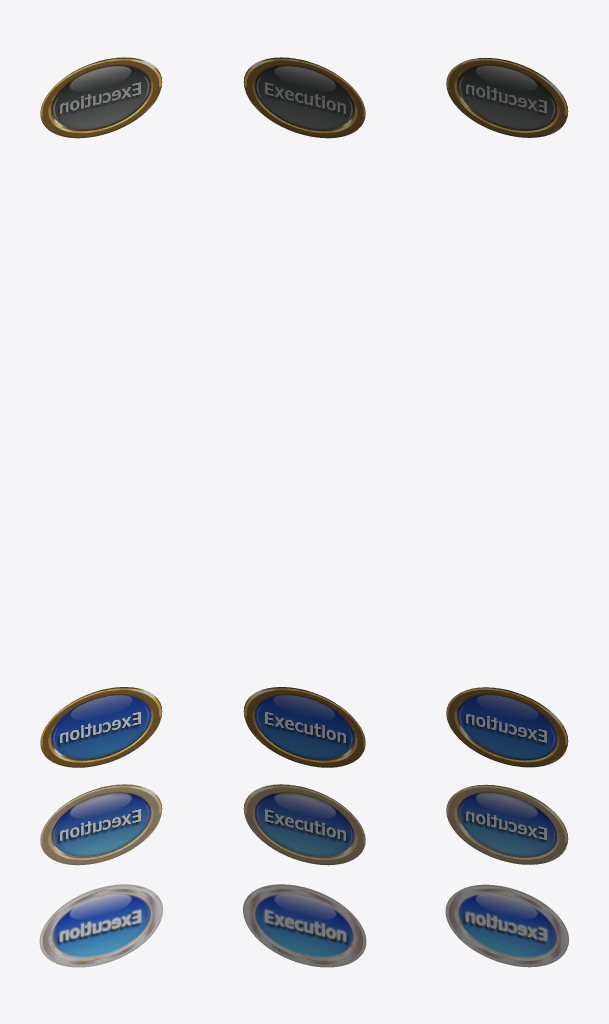
File: Execution_set.fbx
3 views of the same model, side by side, from view 1: azimuth 30°, elevation 25°; view 2: azimuth 150°, elevation 25°; view 3: azimuth 330°, elevation 25° (orthographic).
Visible parts, largest first — view 1: Execution_mouseclick, Execution_off, Execution_mouseover, Execution_on; view 2: Execution_mouseclick, Execution_off, Execution_mouseover, Execution_on; view 3: Execution_mouseclick, Execution_on, Execution_mouseover, Execution_off.
Part boxes in pixels (bbox=[...]): Execution_mouseclick: bbox=[39, 884, 162, 967]; Execution_off: bbox=[40, 57, 162, 138]; Execution_mouseover: bbox=[40, 784, 162, 865]; Execution_on: bbox=[40, 687, 162, 767]; Execution_mouseclick: bbox=[243, 884, 366, 967]; Execution_off: bbox=[243, 57, 365, 138]; Execution_mouseover: bbox=[243, 784, 365, 865]; Execution_on: bbox=[243, 687, 365, 767]; Execution_mouseclick: bbox=[445, 884, 568, 967]; Execution_on: bbox=[446, 687, 568, 767]; Execution_mouseover: bbox=[446, 784, 568, 864]; Execution_off: bbox=[446, 58, 568, 137].
Size of the model in its own units: 14.77 by 77.14 by 0.
4 materials, 4 textured.
